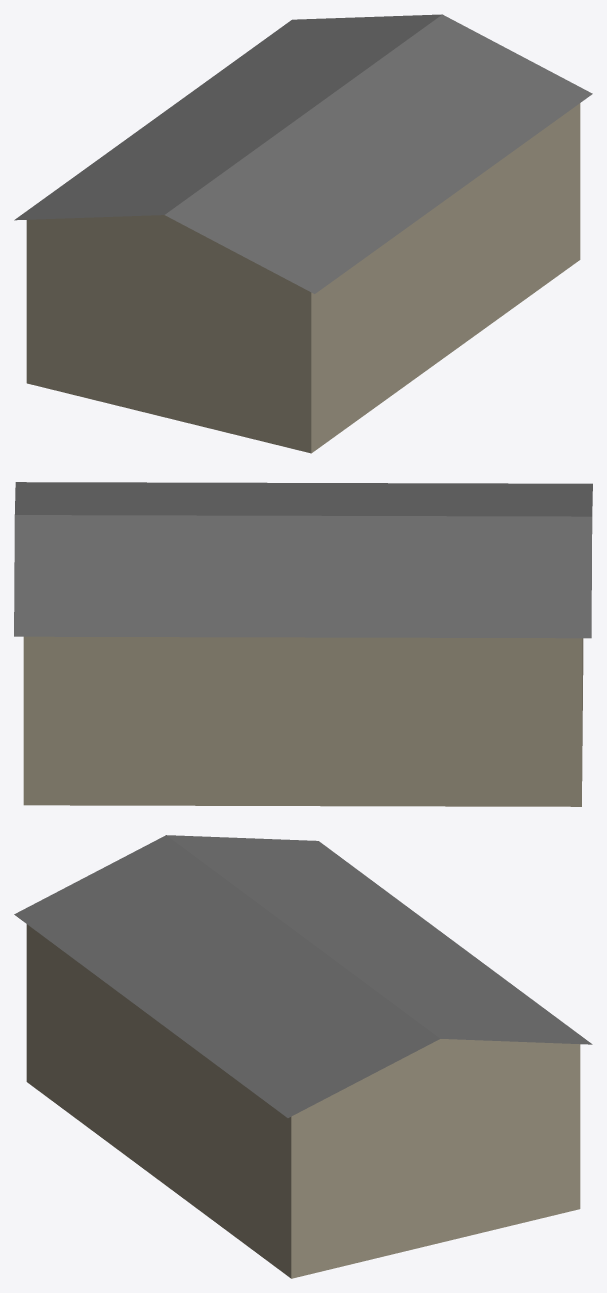
3 views of the same model, one above another, from view 1: azimuth 30°, elevation 25°; view 2: azimuth 150°, elevation 25°; view 3: azimuth 270°, elevation 25° (orthographic). The views are drawn at different scales.
Parts seen in each view (by area): view 1: buildings; view 2: buildings; view 3: buildings.
Boxes of the visible parts, left/top/right/bottom form: buildings: left=14, top=14, right=592, bottom=453; buildings: left=14, top=482, right=592, bottom=806; buildings: left=14, top=835, right=592, bottom=1278.
Size of the model in its own units: 21.23 by 7.44 by 18.73.
